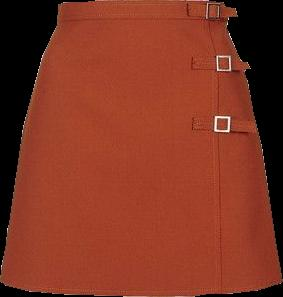Hemline: (0, 279, 282, 296)
Waistline: (56, 15, 227, 23), (59, 0, 224, 5)
